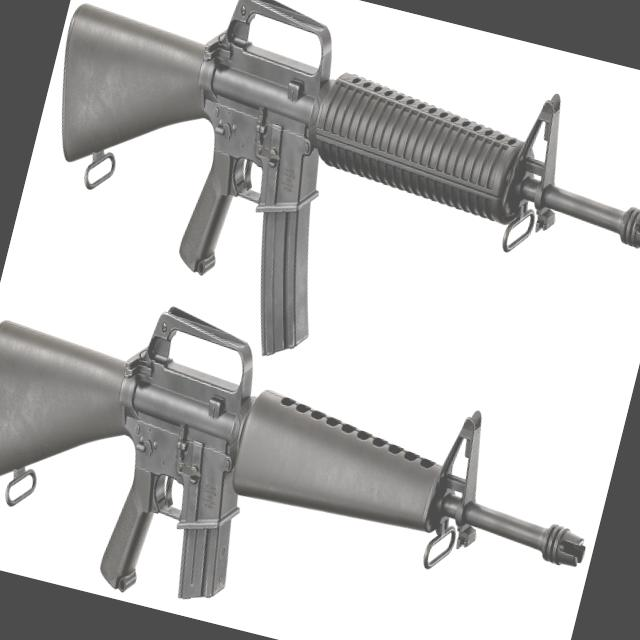m16: (101, 254, 628, 640)
